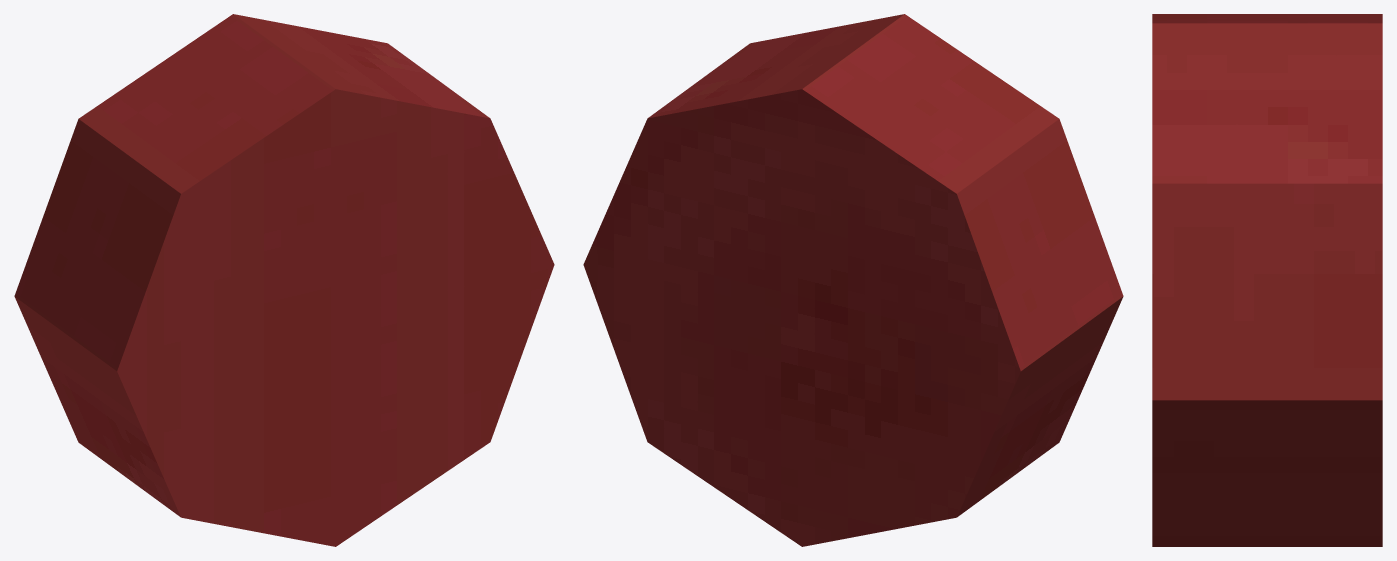
Rendered from nt_2020_ashtray_01_LOD3.obj.
The picture shows the model from 3 angles, left to right: view 1: azimuth 30°, elevation 25°; view 2: azimuth 150°, elevation 25°; view 3: azimuth 270°, elevation 25°; orthographic projection. The views are drawn at different scales.
Visible parts, largest first — view 1: mtl_nt_2020_ashtray_02; view 2: mtl_nt_2020_ashtray_02; view 3: mtl_nt_2020_ashtray_02.
Boxes of the visible parts, x1=… form: mtl_nt_2020_ashtray_02: x1=14, y1=14, x2=554, y2=546; mtl_nt_2020_ashtray_02: x1=583, y1=14, x2=1123, y2=546; mtl_nt_2020_ashtray_02: x1=1152, y1=14, x2=1382, y2=546.
Bounding box in the file's own units: 12.07 × 12.07 × 4.91.
